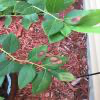Blueberry leaf: (31, 67, 53, 97), (18, 62, 37, 94), (42, 16, 65, 39), (20, 13, 41, 31), (71, 23, 99, 36), (0, 58, 18, 78), (12, 1, 36, 16), (3, 30, 17, 54), (46, 0, 64, 16), (3, 15, 12, 30)
